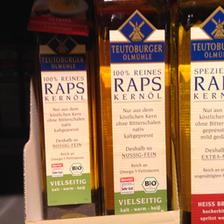Oel: (96, 1, 176, 213), (35, 6, 99, 218), (171, 0, 223, 220)
